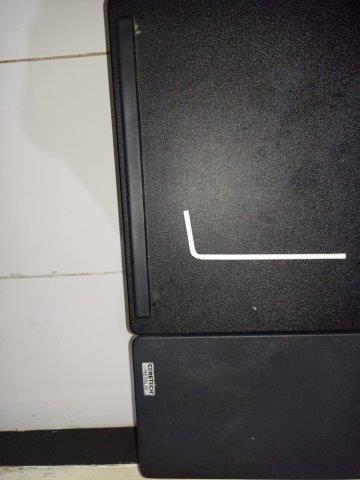sedotan: (184, 209, 346, 260)
